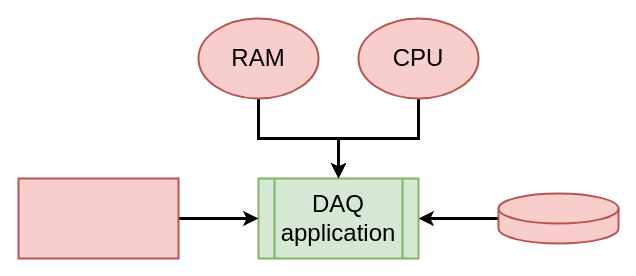
The diagram is 636 pixels wide and 276 high, and some of its shapes have lost their labels. The shapes that lost their labels are listed below. From the top down, each one's centre as x and y in pixels, then its label:
(98,218): Detector Hardware
(558,218): Disk
